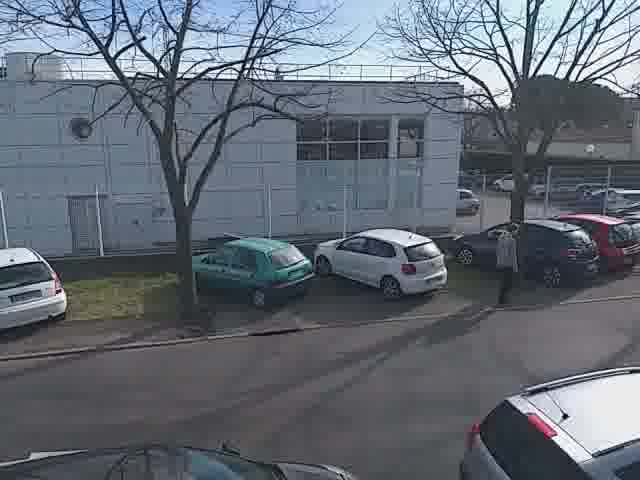persona: (488, 215, 527, 308)
